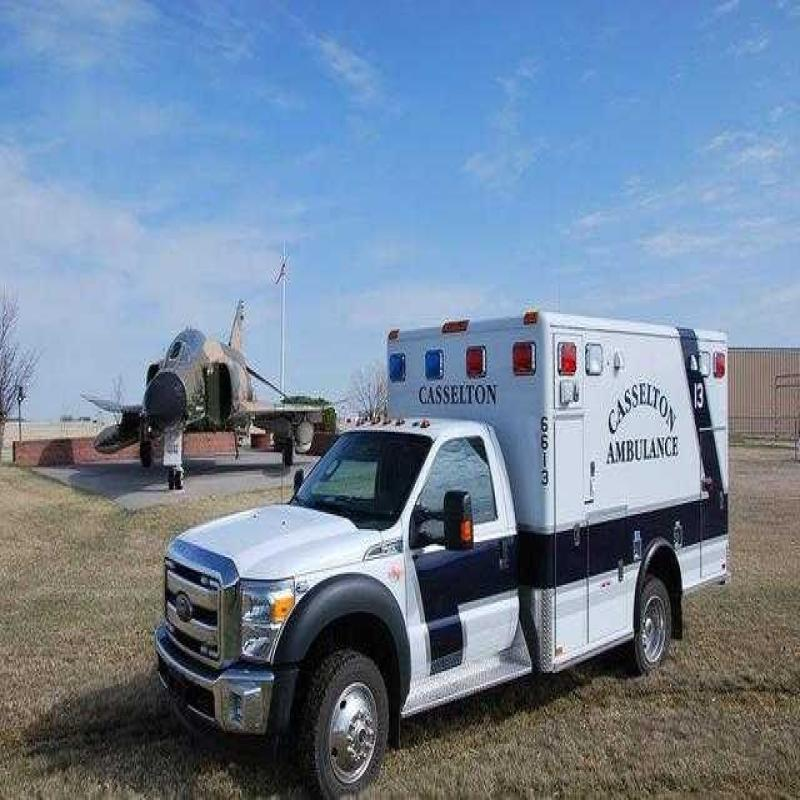AmbulanceSiren: (382, 324, 539, 406)
